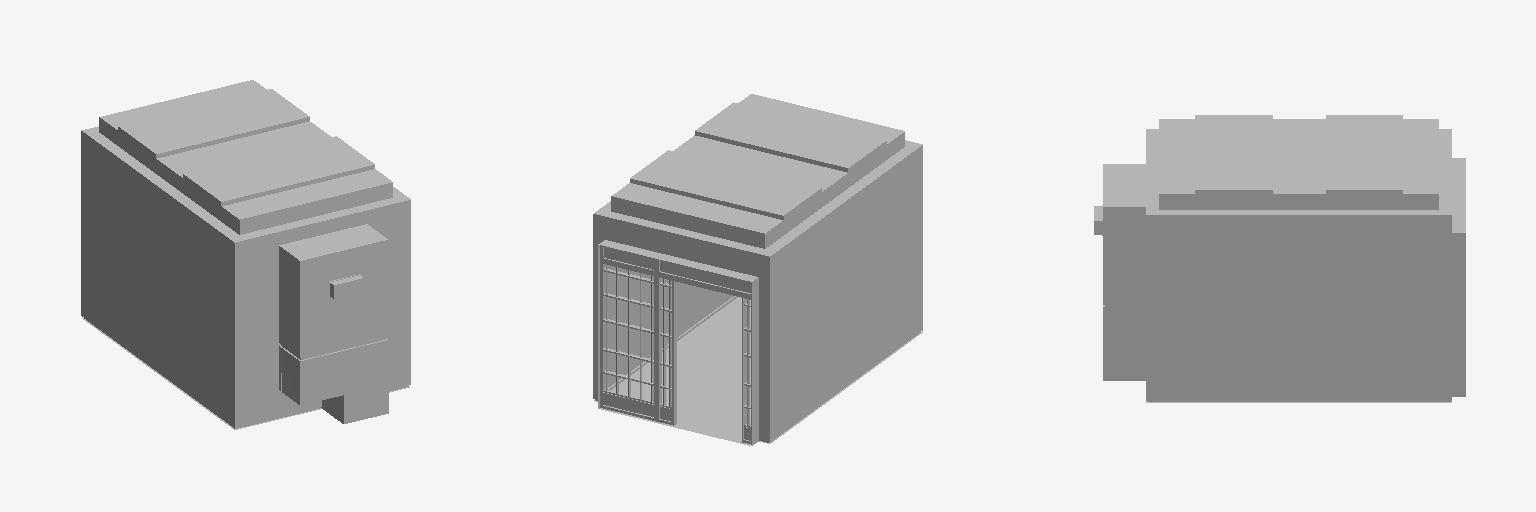
Rendered from cell.obj.
The picture shows the model from 3 angles: view 1: azimuth 30°, elevation 25°; view 2: azimuth 150°, elevation 25°; view 3: azimuth 270°, elevation 25°; orthographic projection.
Parts seen in each view (by area): view 1: cell; view 2: cell; view 3: cell.
Boxes of the visible parts, <box> form: cell: <box>81,80,410,429</box>; cell: <box>593,94,922,445</box>; cell: <box>1094,115,1465,402</box>.
Bounding box in the file's own units: 120 × 135 × 220.